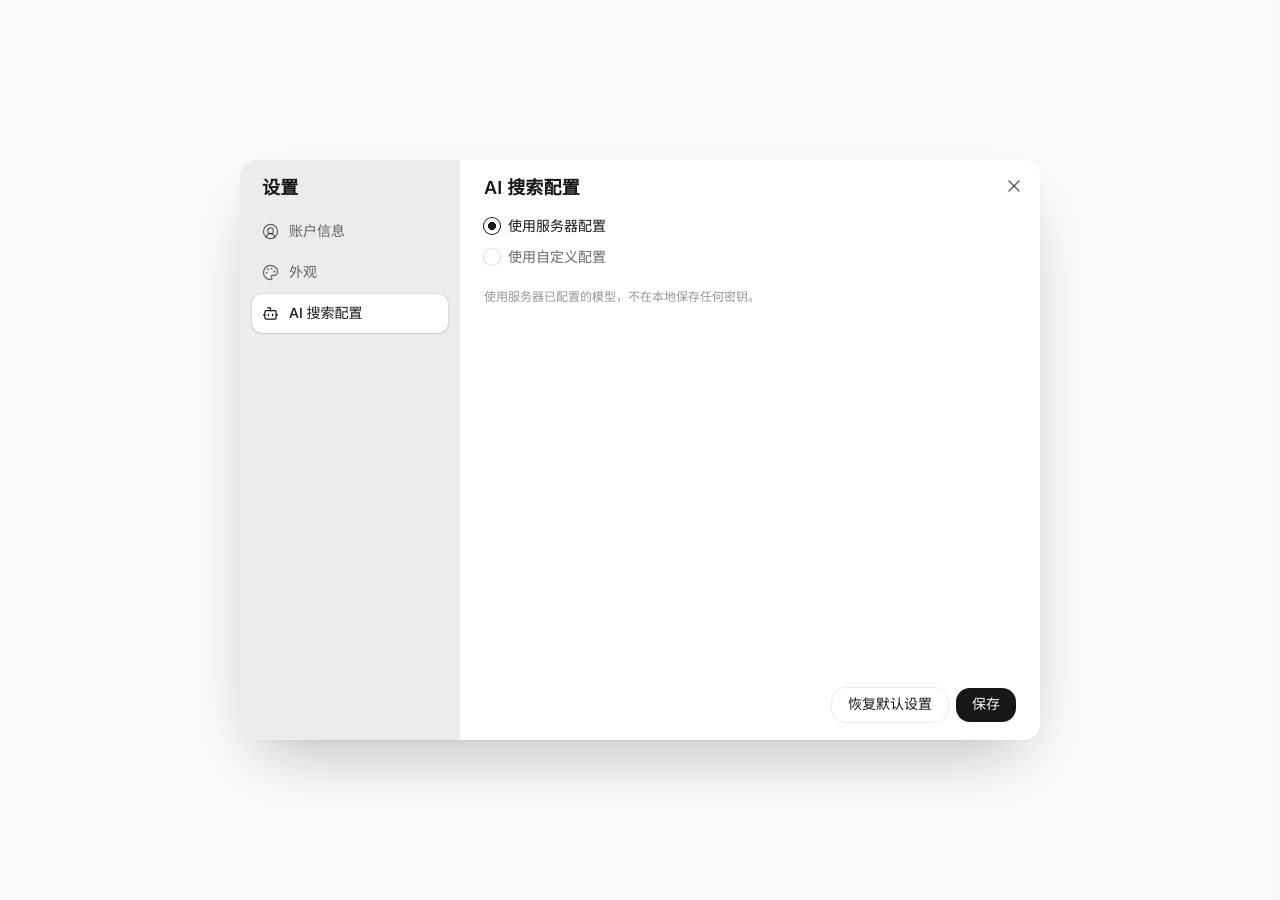
Scenario: SettingsModal 语言下拉：点击空白收起 › 点击行自身不会因外部监听而立刻收起（仍可切换）
The width and height of the screenshot is (1280, 900).
Step 1. Click the button "外观" → (350, 272), box top-left (252, 253), bottom-right (448, 292)
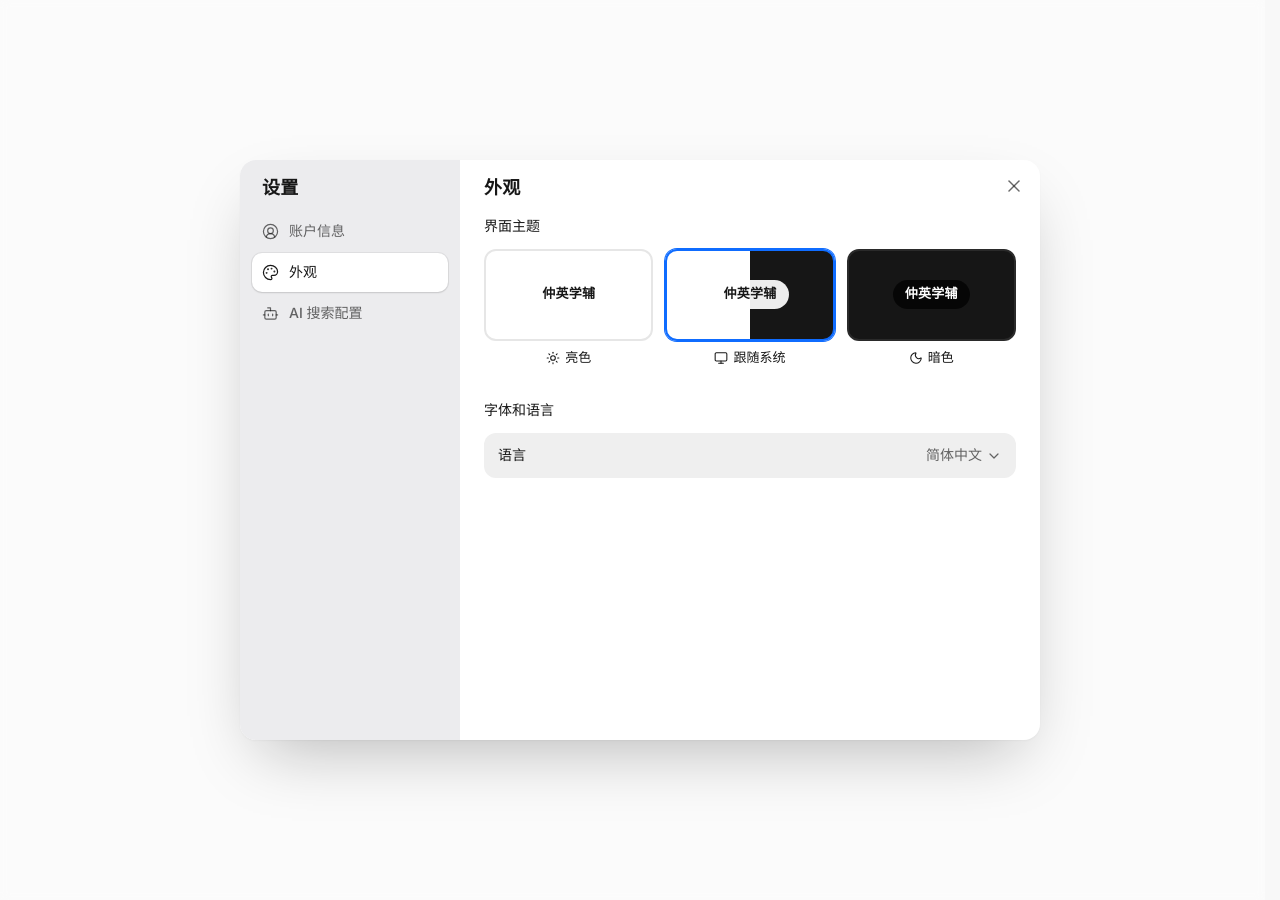
Check: the text "字体和语言" is shown, box top-left (484, 402), bottom-right (554, 419)
Step 2. Click the button "语言 简体中文" → (954, 456), box top-left (484, 433), bottom-right (1016, 478)
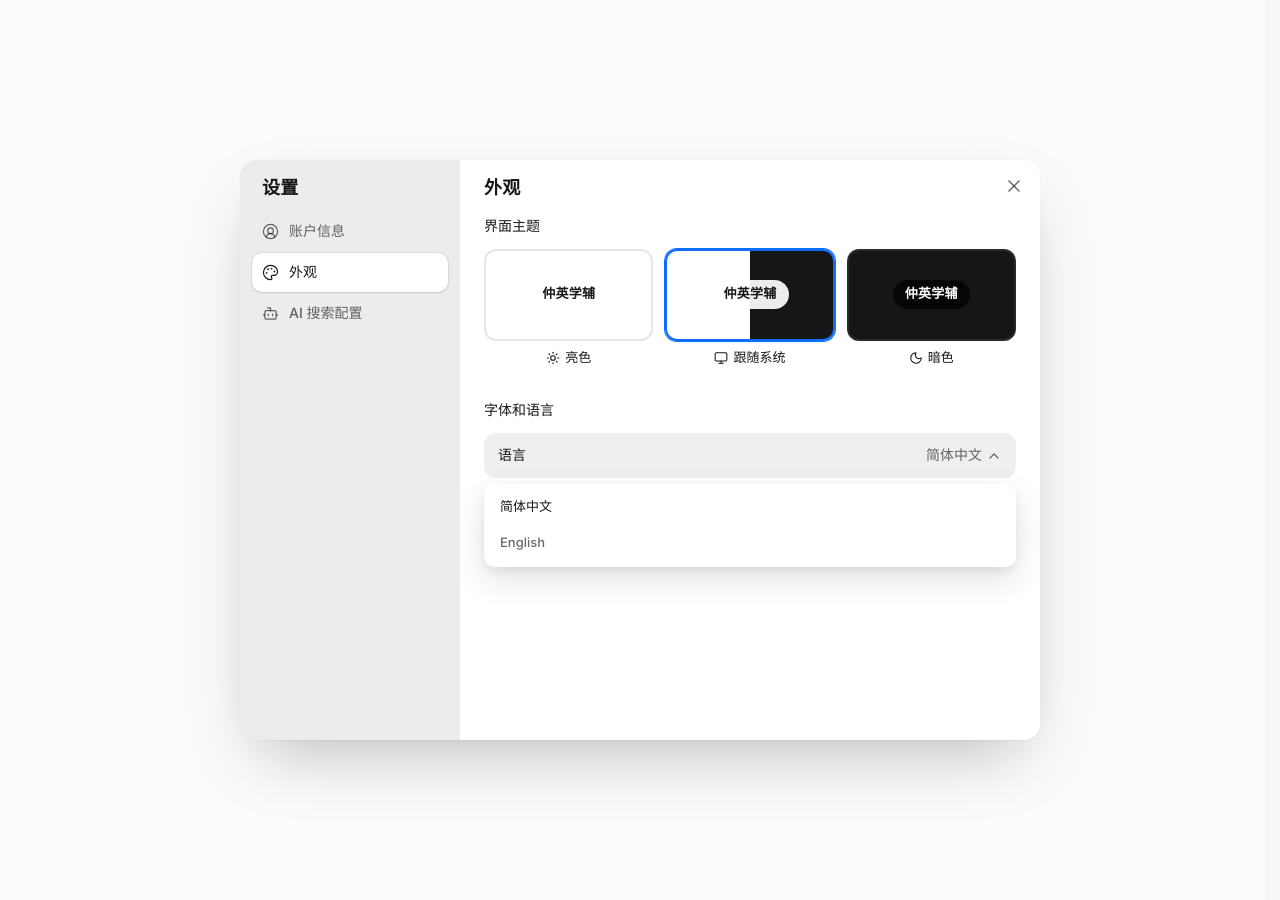
Check: the list with class "settings-lang-menu" is shown, box top-left (484, 484), bottom-right (1016, 567)
Step 3. Click the button "语言 简体中文" → (954, 456), box top-left (484, 433), bottom-right (1016, 478)
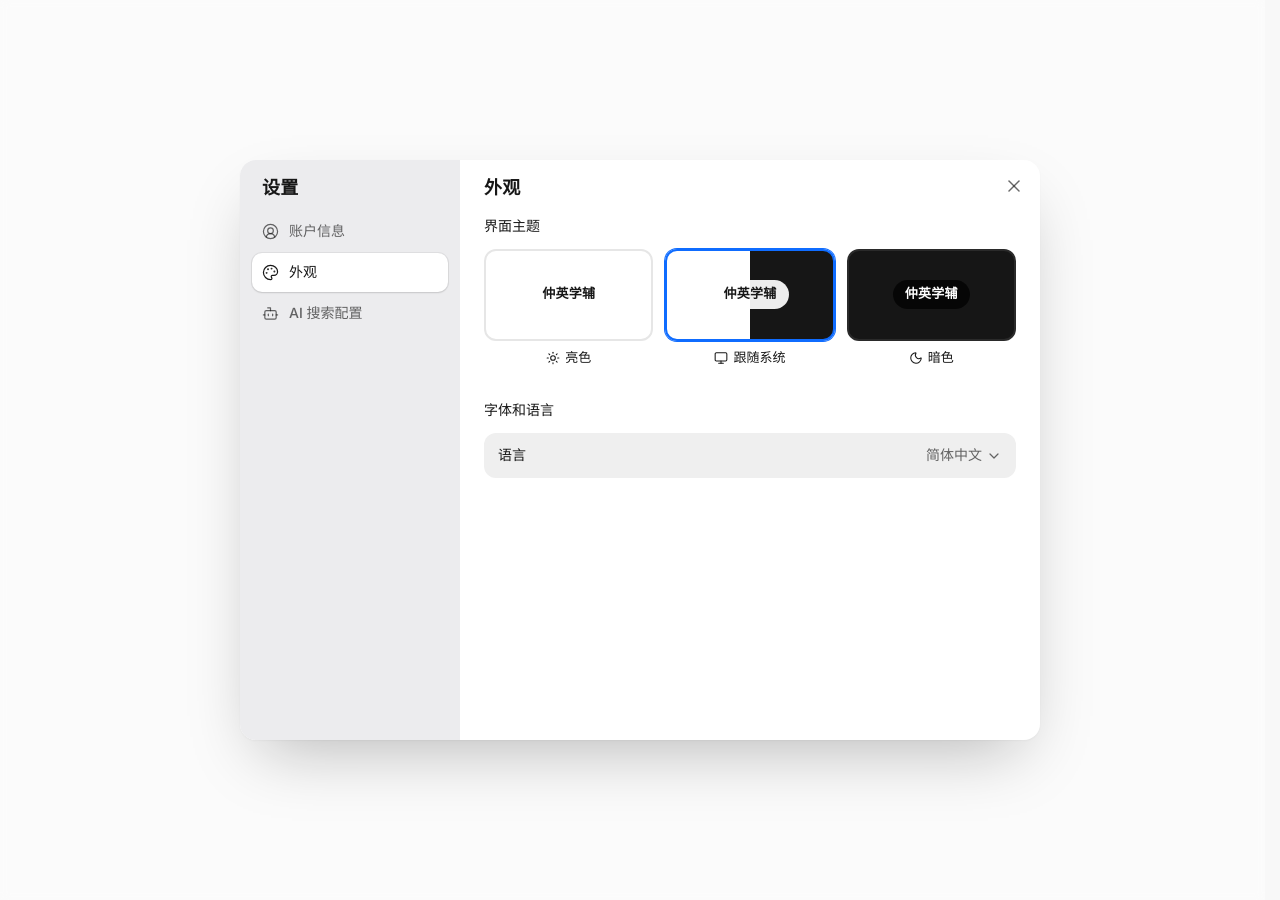
Check: the list with class "settings-lang-menu" is gone
Step 4. Click the button "语言 简体中文" → (954, 456), box top-left (484, 433), bottom-right (1016, 478)
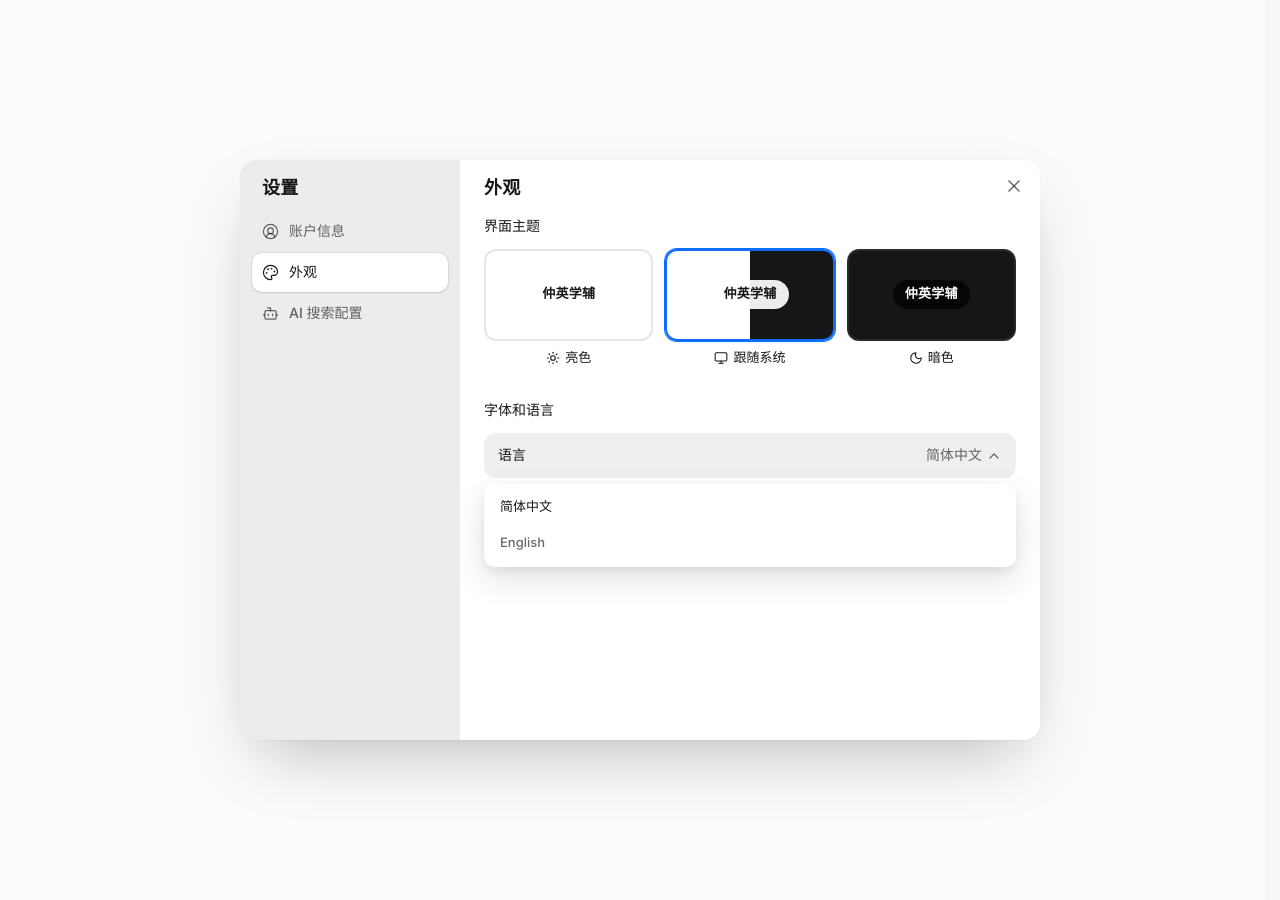
Check: the list with class "settings-lang-menu" is shown, box top-left (484, 484), bottom-right (1016, 567)
